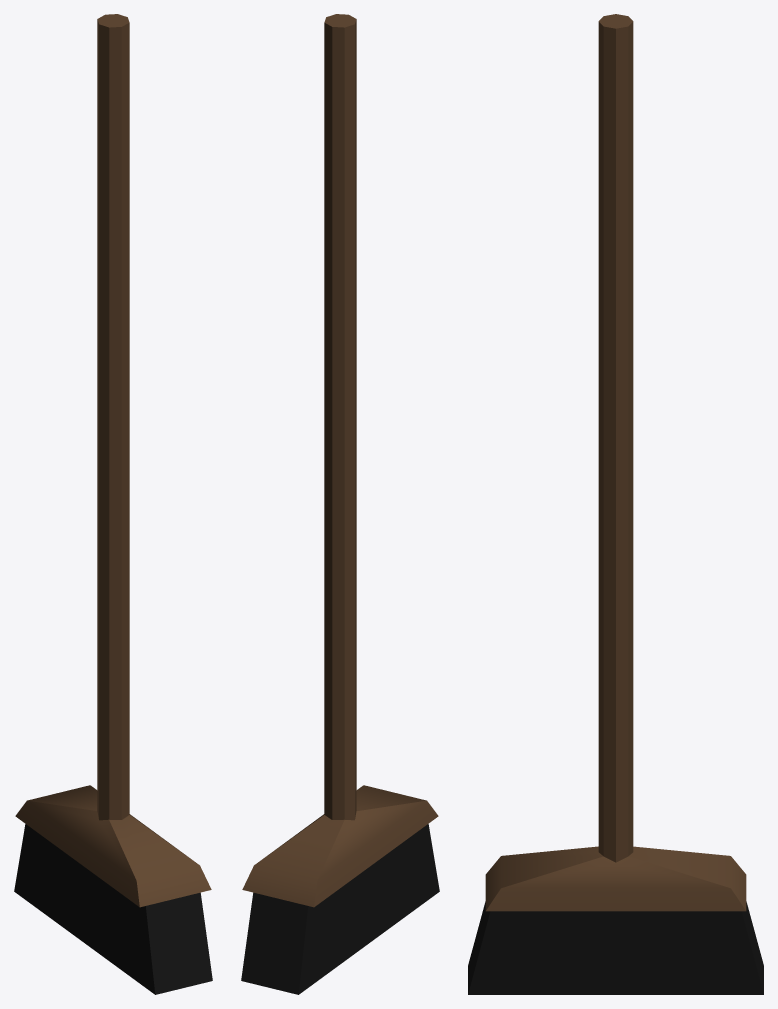
Rendered from vassoira.fbx.
3 views of the same model, side by side, from view 1: azimuth 30°, elevation 25°; view 2: azimuth 150°, elevation 25°; view 3: azimuth 270°, elevation 25° (orthographic). The views are drawn at different scales.
Parts seen in each view (by area): view 1: Vassoira; view 2: Vassoira; view 3: Vassoira.
Part boxes in pixels (<box>): Vassoira: <box>14,14,212,994</box>; Vassoira: <box>241,14,439,994</box>; Vassoira: <box>468,14,763,994</box>.
Bounding box in the file's own units: 0.1 × 0.3401 × 1.22.
